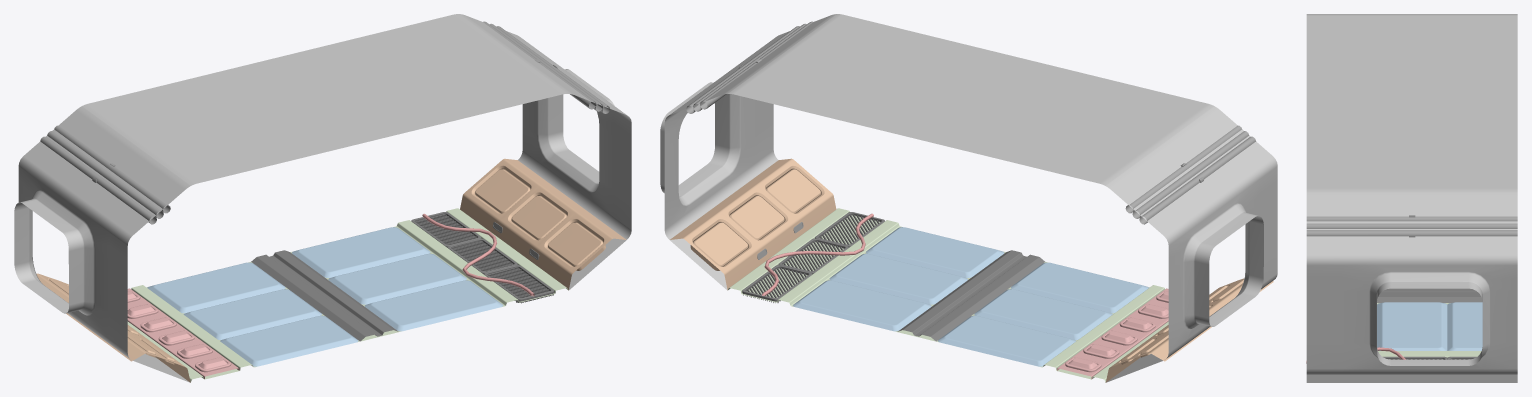
File: MOD_3.fbx
3 renders of one model, left to right at view 1: azimuth 30°, elevation 25°; view 2: azimuth 150°, elevation 25°; view 3: azimuth 270°, elevation 25°, orthographic. The views are drawn at different scales.
Parts seen in each view (by area): view 1: MOD_3; view 2: MOD_3; view 3: MOD_3.
Boxes of the visible parts, x1,y1,x2,y2 form: MOD_3: (14, 14, 631, 382); MOD_3: (660, 14, 1277, 382); MOD_3: (1306, 14, 1517, 382).
Bounding box in the file's own units: 8.72 × 3.03 × 3.01.
